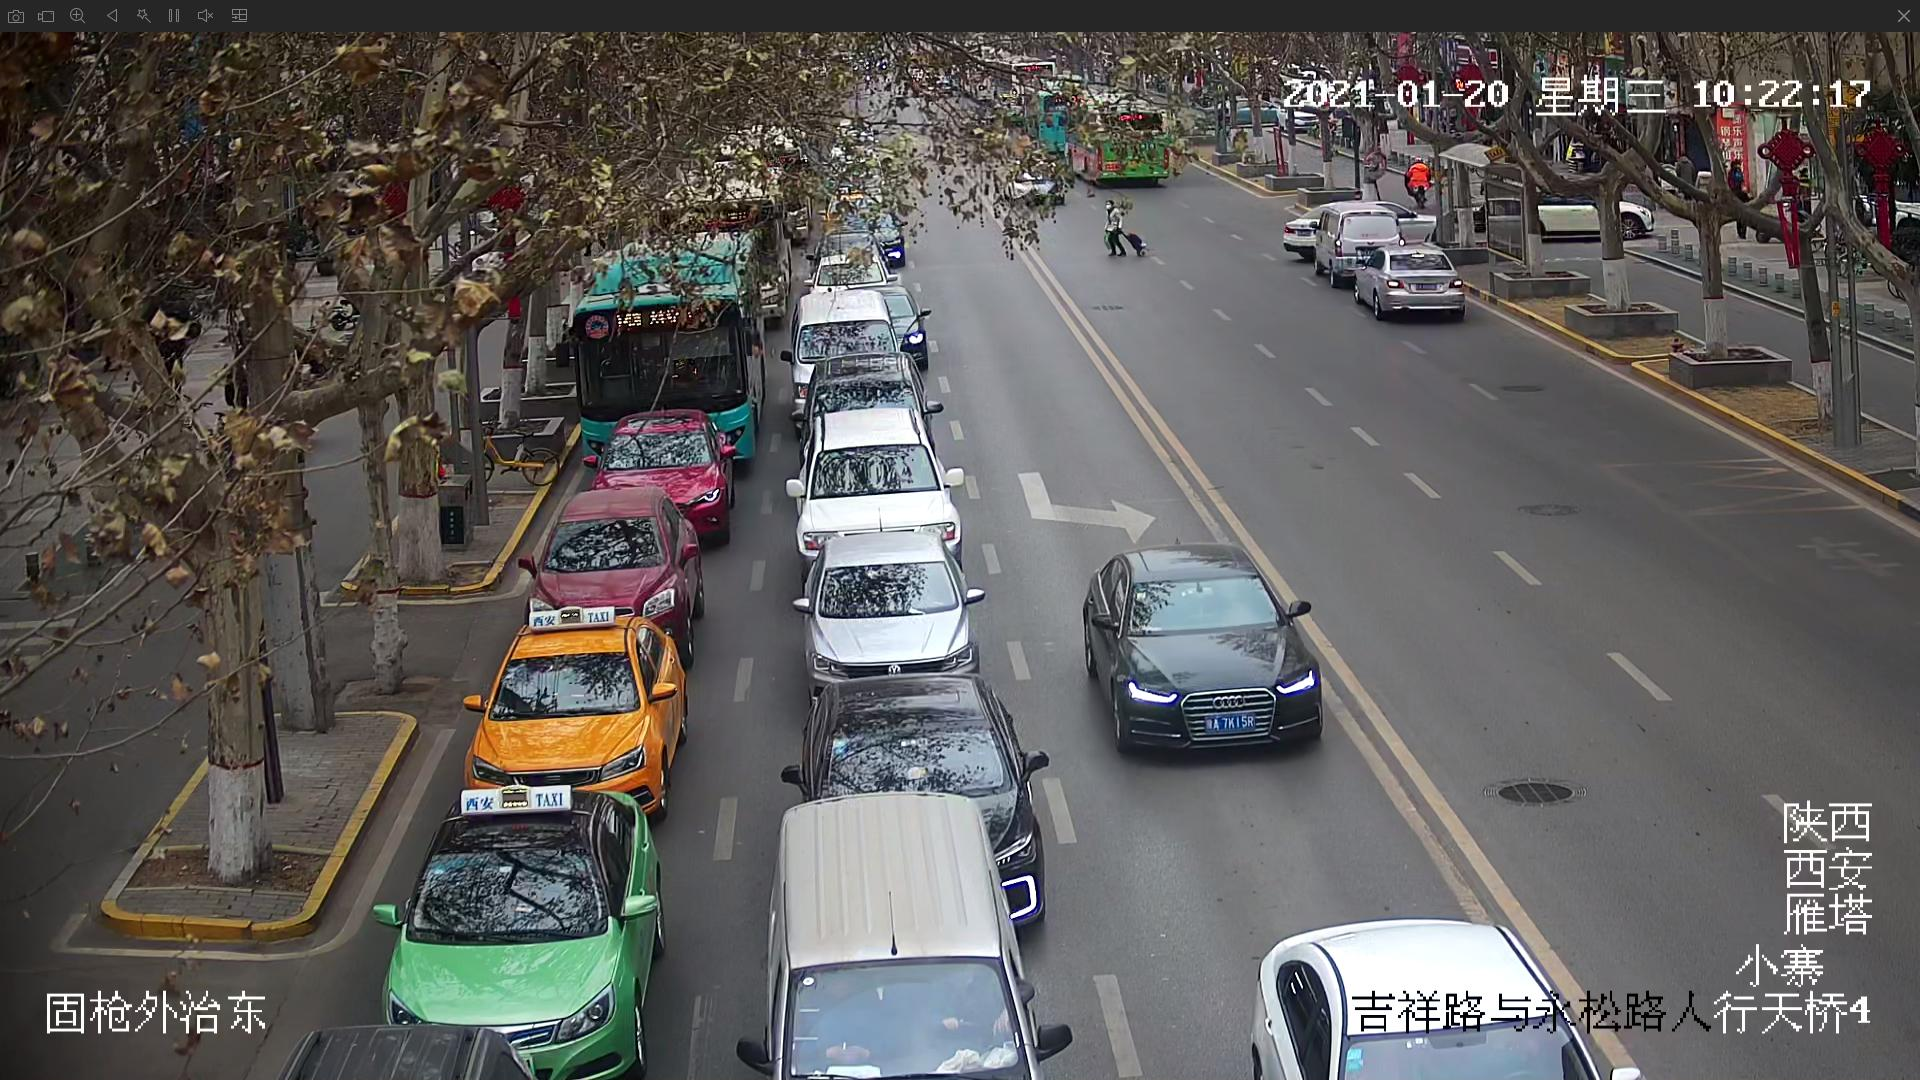black: (1092, 547, 1324, 758)
grass-green: (385, 791, 637, 1063)
orange: (462, 605, 671, 804)
silver-gray: (790, 530, 978, 684)
